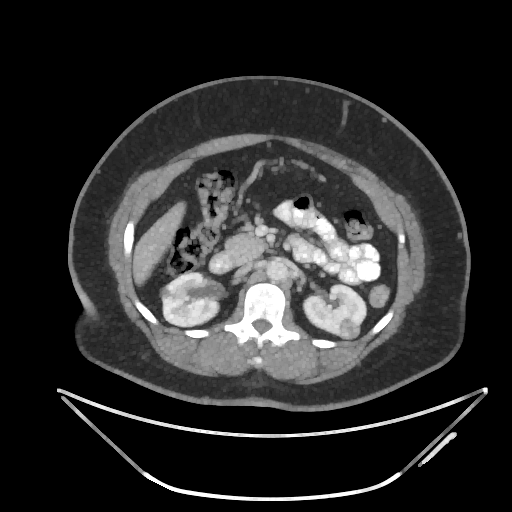Lesion: (337, 319, 360, 340)
